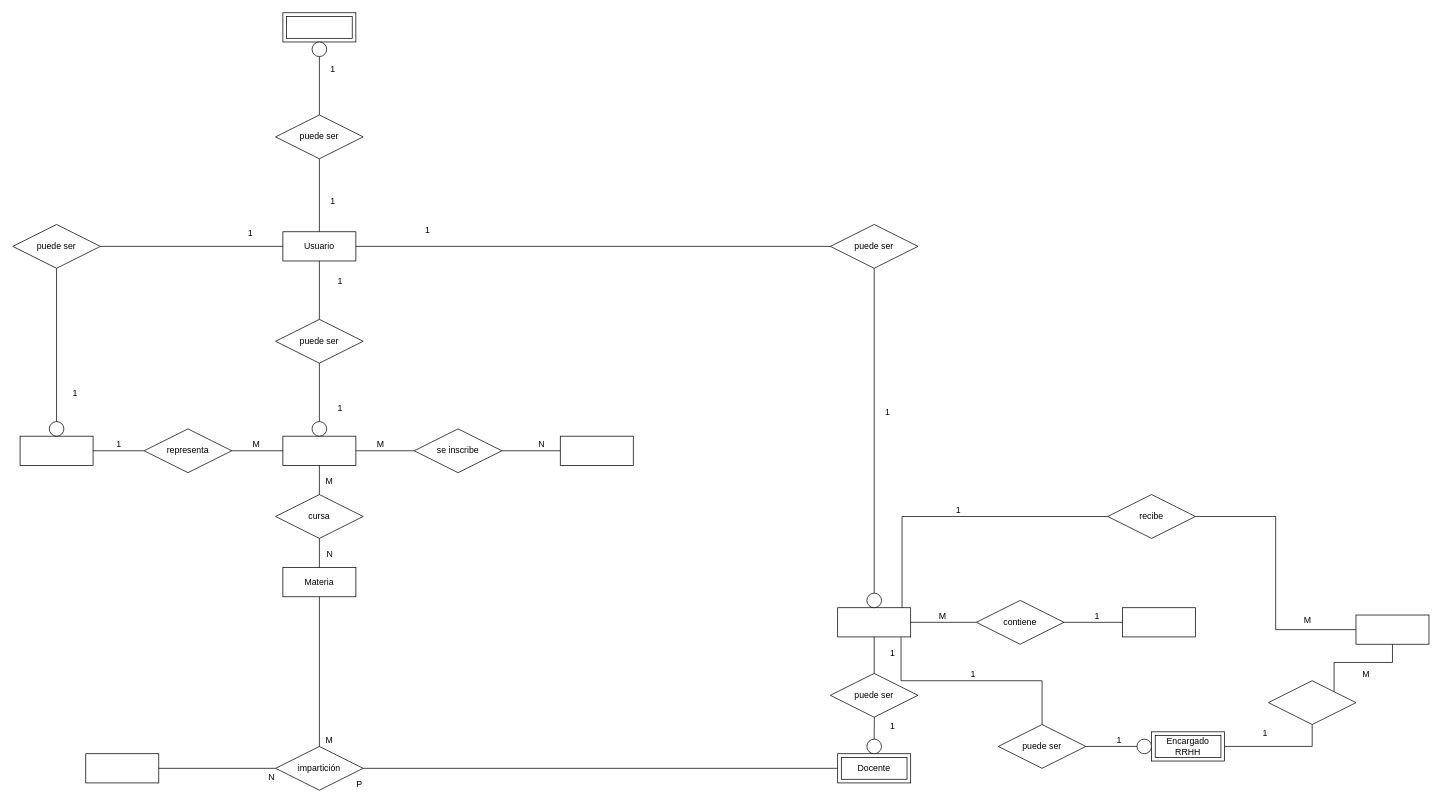
This 1442x803 diagram has some shape labels left out. The shapes that lost their labels are listed below. From the top down, each one's centre as x and y in pixels, then its label:
At (319,27): "Administrador".
At (56,450): "Apoderado".
At (319,450): "Alumno".
At (596,450): "Grado".
At (874,622): "Empleado".
At (1158,622): "Departamento".
At (1392,629): "Salario".
At (1312,702): "asigna".
At (122,768): "Aula".
